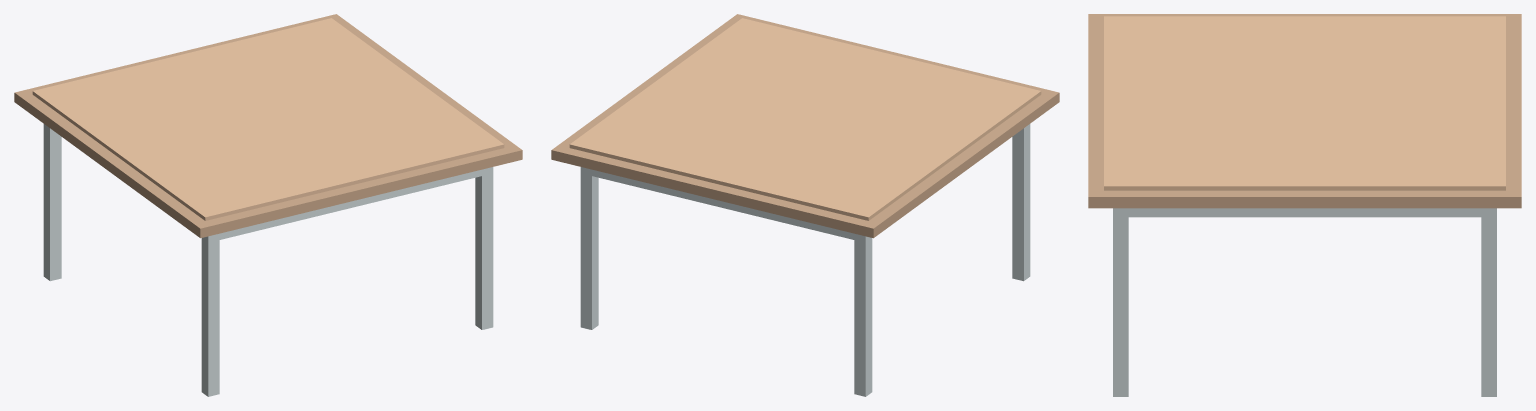
Rendered from diningSquareModern.glb.
The picture shows the model from 3 angles, left to right: view 1: azimuth 30°, elevation 25°; view 2: azimuth 150°, elevation 25°; view 3: azimuth 270°, elevation 25°; orthographic projection. The views are drawn at different scales.
Visible parts, largest first — view 1: diningSquareModern; view 2: diningSquareModern; view 3: diningSquareModern.
Boxes of the visible parts, box(x1,y1,x2,y2) form: diningSquareModern: box(14, 14, 522, 396); diningSquareModern: box(551, 14, 1059, 396); diningSquareModern: box(1088, 14, 1521, 396).
Bounding box in the file's own units: 0.7 × 0.3825 × 0.7.
